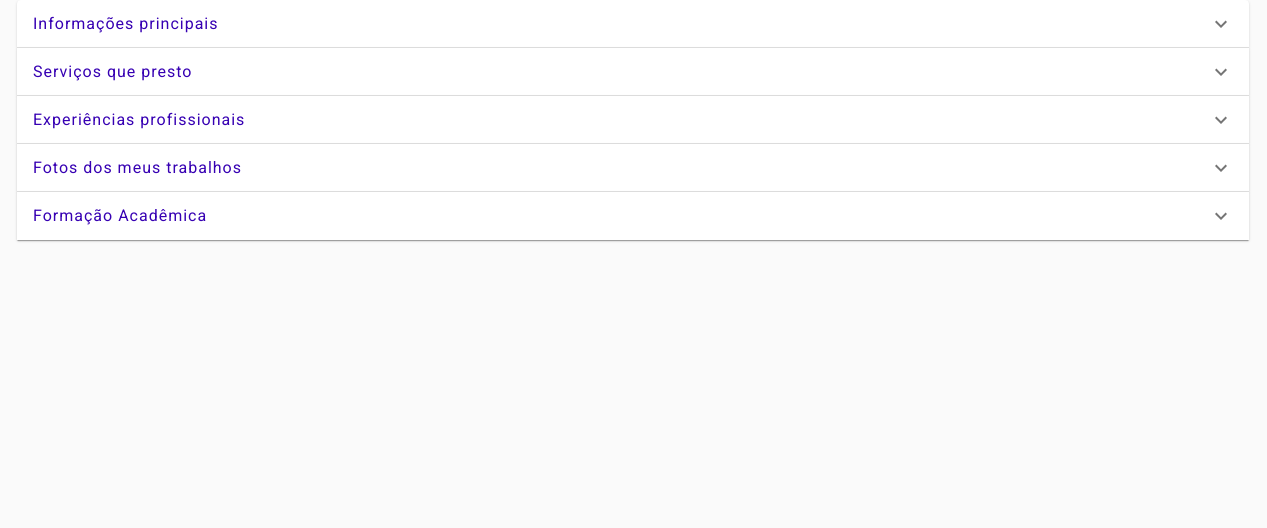
it: should retract accordion on click
Step 1. Click the button "Fotos dos meus trabalhos" → click(138, 168), box [33,156,1233,180]
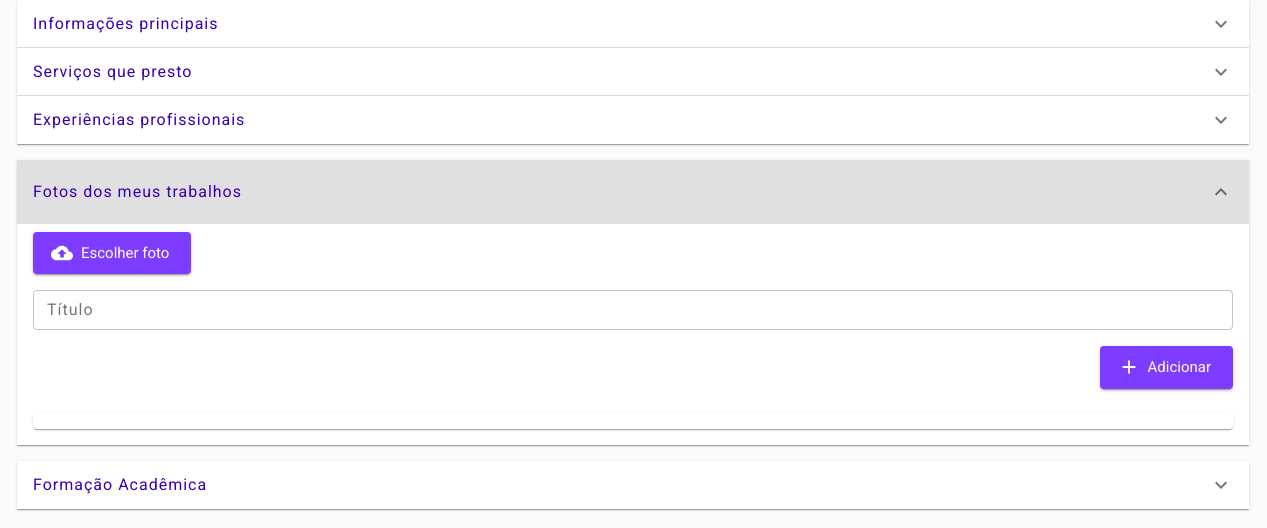
Step 2. Click the button "Fotos dos meus trabalhos" → click(138, 192), box [17,160,1249,224]
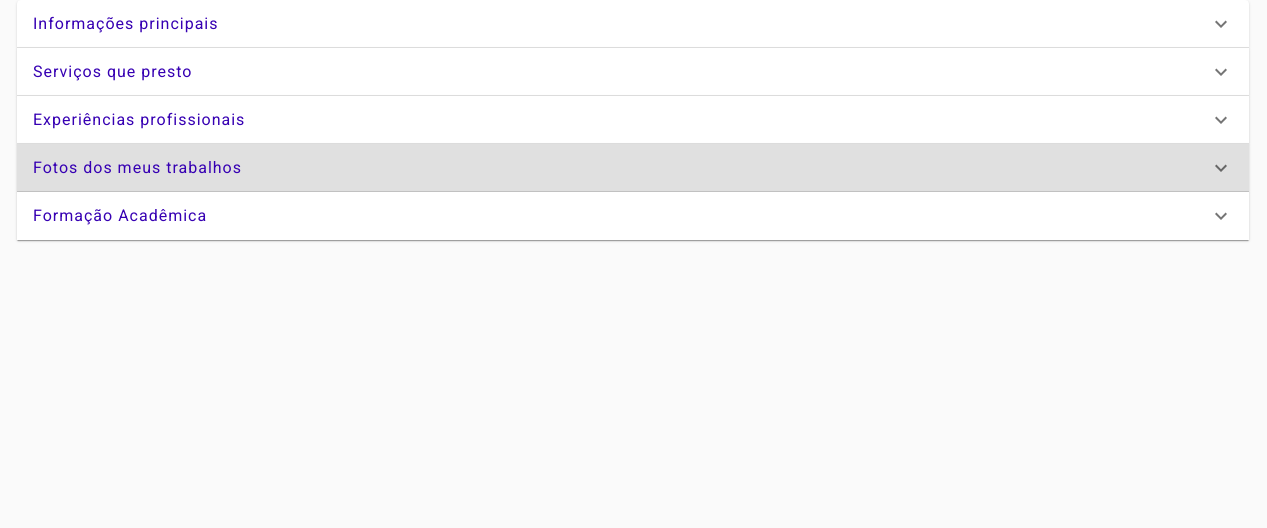
Result: the label labelled "Título" is gone
